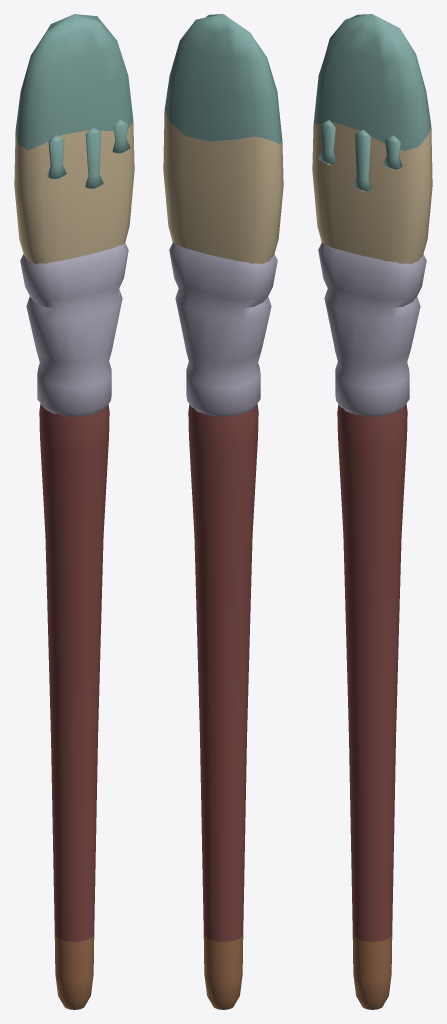
File: prop_giant_brush.glb
The picture shows the model from 3 angles, left to right: view 1: azimuth 30°, elevation 25°; view 2: azimuth 150°, elevation 25°; view 3: azimuth 330°, elevation 25°; orthographic projection.
Parts seen in each view (by area): view 1: GiantBrushMesh; view 2: GiantBrushMesh; view 3: GiantBrushMesh.
Part boxes in pixels (bbox=[...]): GiantBrushMesh: bbox=[14, 14, 134, 1009]; GiantBrushMesh: bbox=[163, 14, 283, 1009]; GiantBrushMesh: bbox=[312, 14, 432, 1009].
Size of the model in its own units: 0.476 by 4 by 0.274.
